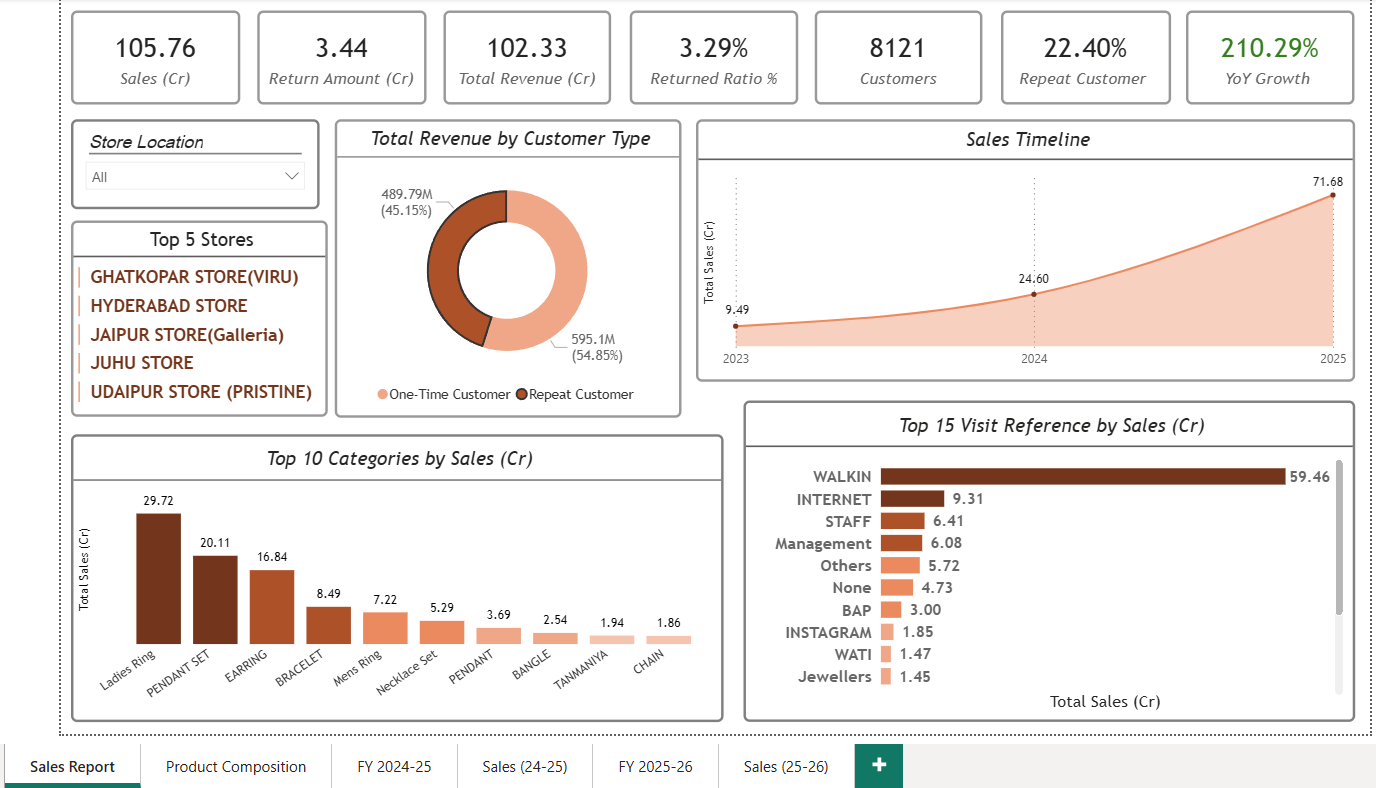

The dashboard page shown, as its layout file describes it:
{"tool":"powerbi","page":{"name":"Sales Report","canvas":[1280,720],"ordinal":0},"visuals":[{"type":"card","fields":{"Values":["Table1.Scaled Total Revenue"]},"box":[9.8,12.1,165.6,91.8],"z":0,"group":"g1"},{"type":"card","fields":{"Values":["Count(Table1.Customer)"]},"box":[737.8,12,163.9,91.7],"z":1000,"group":"g1"},{"type":"slicer","fields":{"Values":["Table1.Location"]},"box":[9.6,118,242.9,87.8],"z":1000},{"type":"card","fields":{"Values":["Customer_Summary.repeat customer %"]},"box":[920,12,166,92],"z":2000,"group":"g1"},{"type":"barChart","title":"Top 15 Visit Reference by Sales (Cr)","fields":{"Category":["Table1.CustVisitRef"],"Y":["Table1.Scaled Total Revenue"]},"box":[668.3,393.8,598.3,314.2],"z":2000},{"type":"card","fields":{"Values":["Table1.YoY Growth %"]},"box":[1100.6,12,165.1,91.7],"z":3000,"group":"g1"},{"type":"lineChart","title":"Sales Timeline","fields":{"Category":["Date Table.Date.Variation.Date Hierarchy.Year","Date Table.Date.Variation.Date Hierarchy.Quarter","Date Table.Date.Variation.Date Hierarchy.Month","Date Table.Date.Variation.Date Hierarchy.Day"],"Y":["Table1.Scaled Total Revenue"]},"box":[621.6,118,644.9,256.6],"z":3000},{"type":"card","fields":{"Values":["Sales.Scaled Return amount"]},"box":[192.3,12.1,165.6,91.8],"z":4000,"group":"g1"},{"type":"donutChart","fields":{"Category":["Customer_Summary.Customer Type"],"Y":["Sum(Customer_Summary.TotalRevenue)"]},"box":[267.6,118,338.9,292.3],"z":4000},{"type":"card","fields":{"Values":["Sales.Total Revenue"]},"box":[374.8,12.1,164.2,91.8],"z":5000,"group":"g1"},{"type":"columnChart","title":"Top 10 Categories by Sales (Cr)","fields":{"Category":["Table1.Category"],"Y":["Table1.Scaled Total Revenue"]},"box":[9.8,426.8,638.3,281.3],"z":5000},{"type":"card","fields":{"Values":["Sales.Returned Ratio %"]},"box":[555.8,12,165.1,91.7],"z":6000,"group":"g1"},{"type":"multiRowCard","title":"Top 5 Stores ","fields":{"Values":["Sales.Location"]},"box":[9.6,218.2,251.1,192.1],"z":7000},{"type":"group","id":"g1","title":"Group 1","box":[9.8,12,1255.9,92],"z":8000}]}

Visuals, with their boxes on the page's 1280x720 design canvas (x1, y1, x2, y2). These are canvas units, not pixel positions in the 1376x788 screenshot, which may show the page scaled, cropped or inside an application window:
card - Table1.Scaled Total Revenue: bbox(10, 12, 175, 104)
card - Count(Table1.Customer): bbox(738, 12, 902, 104)
slicer - Table1.Location: bbox(10, 118, 252, 206)
card - Customer_Summary.repeat customer %: bbox(920, 12, 1086, 104)
"Top 15 Visit Reference by Sales (Cr)" barChart: bbox(668, 394, 1267, 708)
card - Table1.YoY Growth %: bbox(1101, 12, 1266, 104)
"Sales Timeline" lineChart: bbox(622, 118, 1266, 375)
card - Sales.Scaled Return amount: bbox(192, 12, 358, 104)
donutChart - Customer_Summary.Customer Type x Sum(Customer_Summary.TotalRevenue): bbox(268, 118, 606, 410)
card - Sales.Total Revenue: bbox(375, 12, 539, 104)
"Top 10 Categories by Sales (Cr)" columnChart: bbox(10, 427, 648, 708)
card - Sales.Returned Ratio %: bbox(556, 12, 721, 104)
"Top 5 Stores " multiRowCard: bbox(10, 218, 261, 410)
"Group 1" group: bbox(10, 12, 1266, 104)
